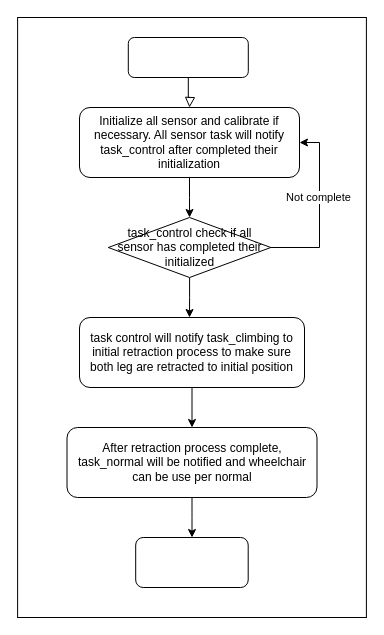
Image size: 384x635. Some labels were removed from this diagram. Each missing label, with the centre of its shape:
"Start" goes at (x=187, y=57).
"State Machine" goes at (x=191, y=562).
